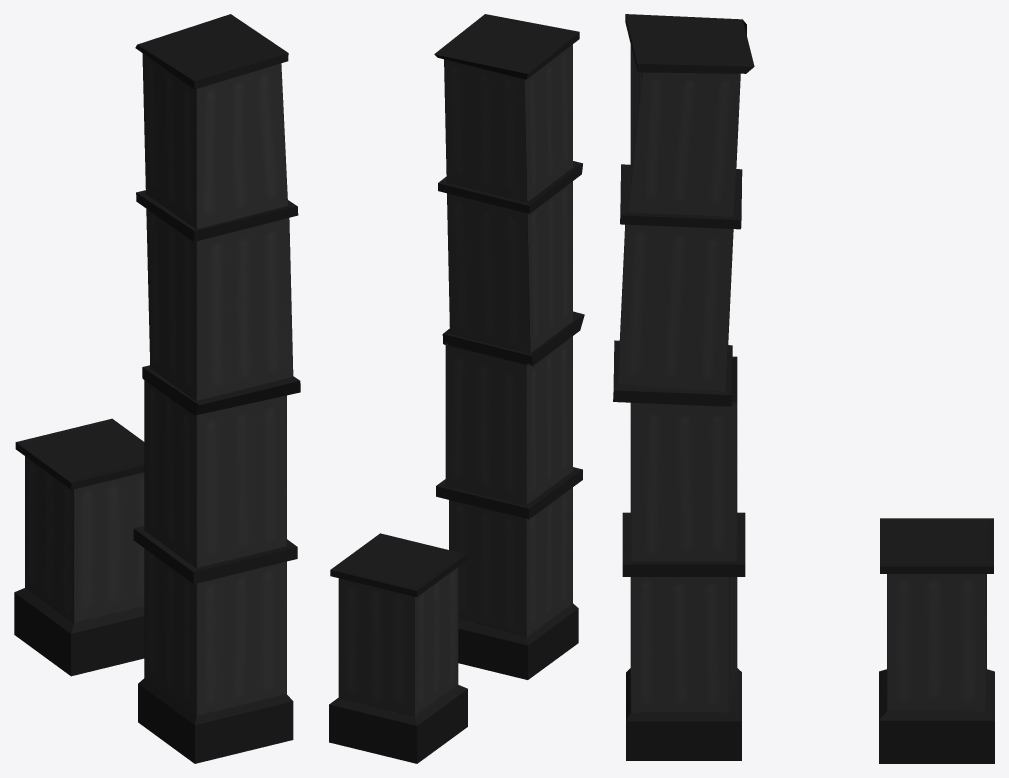
The model's file is Pillars.fbx.
3 views of the same model, side by side, from view 1: azimuth 30°, elevation 25°; view 2: azimuth 150°, elevation 25°; view 3: azimuth 270°, elevation 25° (orthographic). The views are drawn at different scales.
Parts seen in each view (by area): view 1: Pillar, Pillar Base; view 2: Pillar, Pillar Base; view 3: Pillar, Pillar Base.
Boxes of the visible parts, x1,y1,x2,y2 form: Pillar: (133,14,300,763); Pillar Base: (14,418,144,676); Pillar: (434,14,584,679); Pillar Base: (329,533,467,763); Pillar: (613,14,754,760); Pillar Base: (879,518,994,763).
Bounding box in the file's own units: 212 × 1333 × 658.
